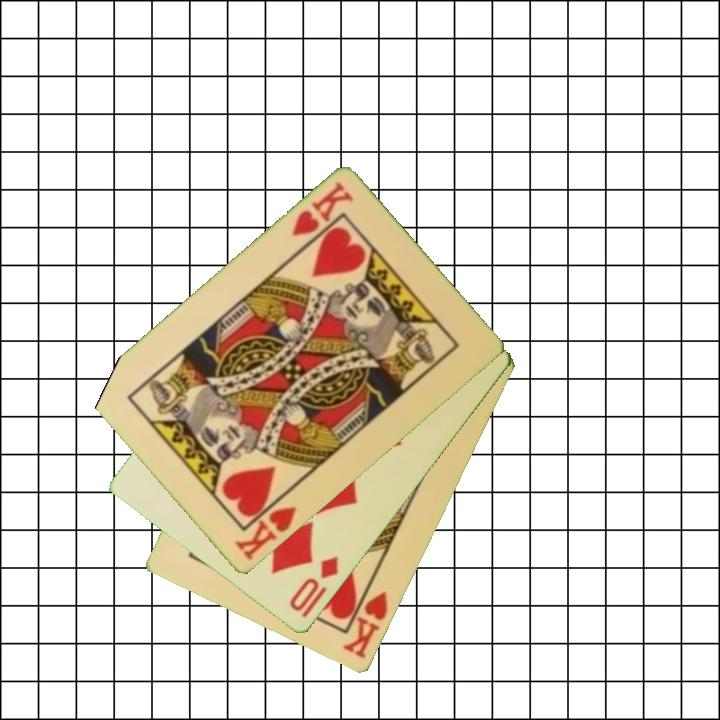10d: (286, 552, 342, 622)
Kh: (231, 489, 299, 564), (339, 577, 391, 662), (287, 178, 357, 240)
